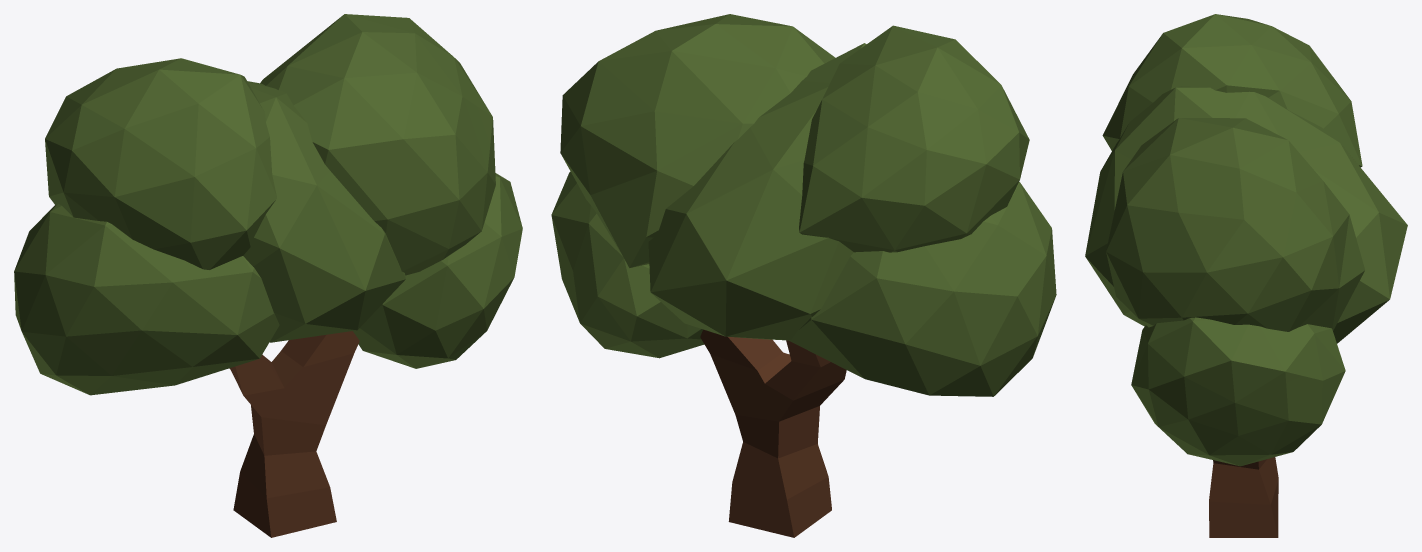
Rendered from OakTree_01.fbx.
3 renders of one model, left to right at view 1: azimuth 30°, elevation 25°; view 2: azimuth 150°, elevation 25°; view 3: azimuth 270°, elevation 25°, orthographic. The views are drawn at different scales.
Parts seen in each view (by area): view 1: OakTree1; view 2: OakTree1; view 3: OakTree1.
Part boxes in pixels (<box>): OakTree1: <box>14,14,522,537</box>; OakTree1: <box>551,14,1056,537</box>; OakTree1: <box>1085,14,1407,537</box>.
Size of the model in its own units: 976 by 959 by 628.
